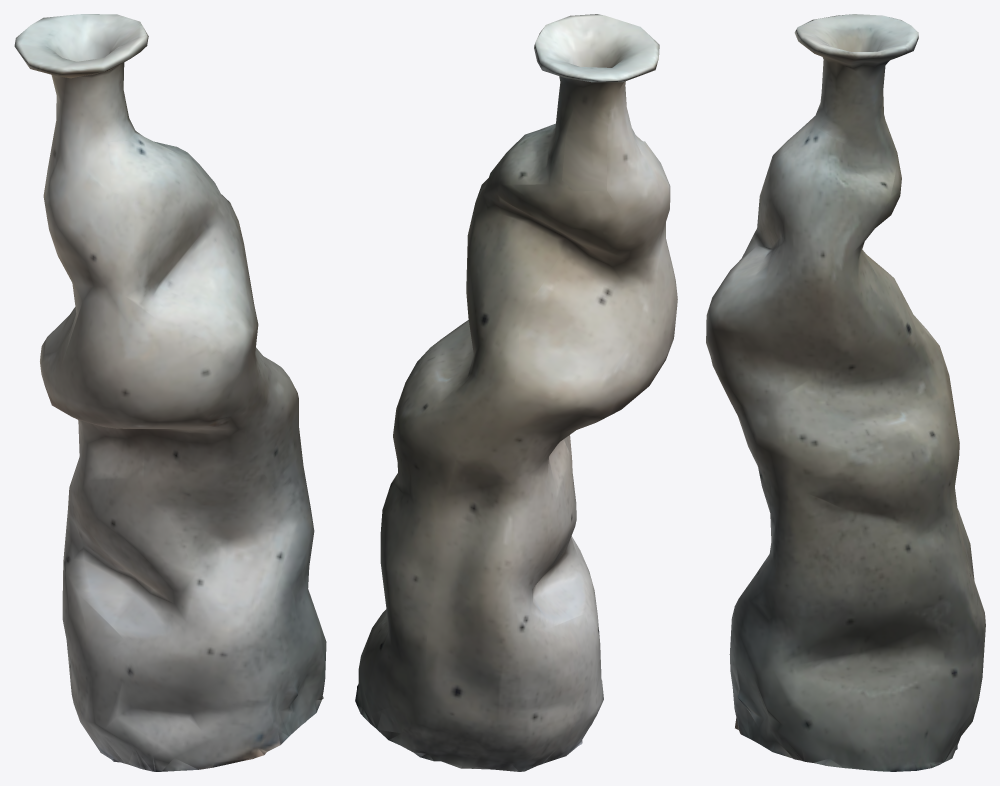
File: obra.glb
3 views of the same model, side by side, from view 1: azimuth 30°, elevation 25°; view 2: azimuth 150°, elevation 25°; view 3: azimuth 270°, elevation 25° (orthographic). The views are drawn at different scales.
Visible parts, largest first — view 1: Node1; view 2: Node1; view 3: Node1.
Boxes of the visible parts, <box> form: Node1: <box>14,14,326,771</box>; Node1: <box>355,14,677,771</box>; Node1: <box>706,14,985,771</box>.
Size of the model in its own units: 0.3689 by 0.9161 by 0.344.
1 material, 1 textured.
